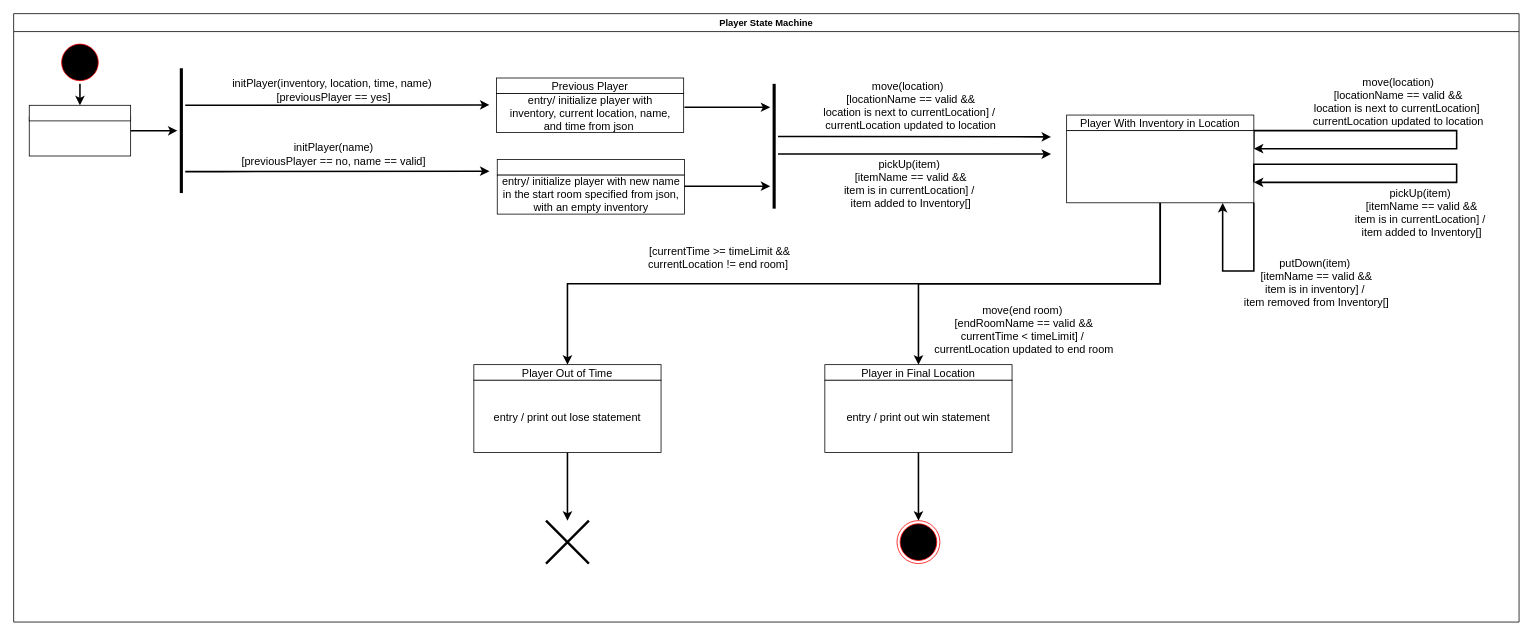
Image size: 1533x636. Some labels were removed from this diagram. Each missing label, with the box of its shape:
entry/ update currentLocation, currentInventory do/ update currentTime: (1066, 130, 1254, 203)
New Player: (496, 159, 684, 175)
noPlayer = true: (28, 116, 131, 156)
Player not initialized: (28, 105, 131, 121)
